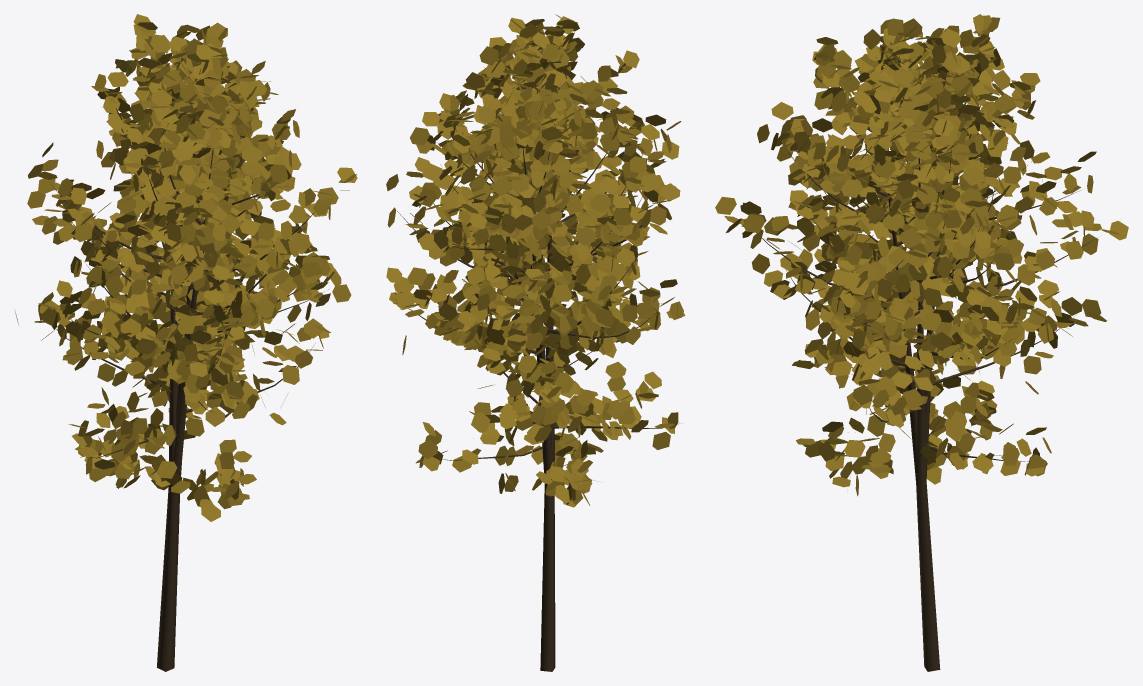
The model's file is tree-tree-007.glb.
3 views of the same model, side by side, from view 1: azimuth 30°, elevation 25°; view 2: azimuth 150°, elevation 25°; view 3: azimuth 270°, elevation 25° (orthographic). The views are drawn at different scales.
Visible parts, largest first — view 1: v_tree.007; view 2: v_tree.007; view 3: v_tree.007.
Boxes of the visible parts, x1,y1,x2,y2 form: v_tree.007: [15, 14, 357, 671]; v_tree.007: [386, 14, 685, 671]; v_tree.007: [715, 14, 1128, 671].
Size of the model in its own units: 7.73 by 17.5 by 9.87.
